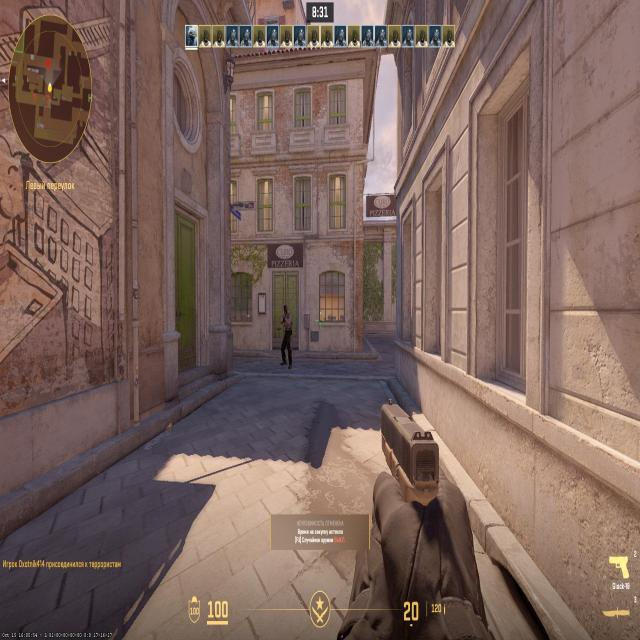T: (279, 306, 292, 362)
T_heat: (282, 306, 286, 316)
